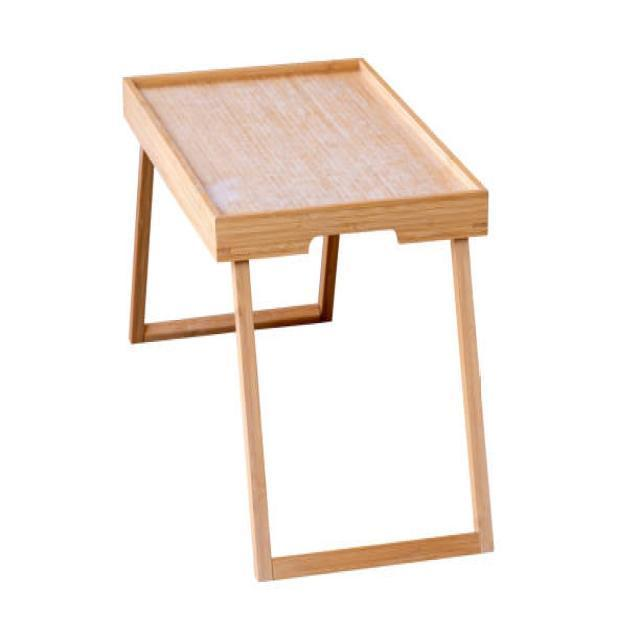table: (121, 55, 494, 582)
